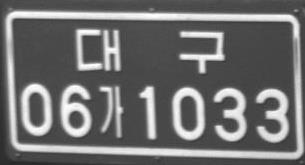0: (170, 85, 206, 141), (20, 82, 52, 135)
1: (134, 84, 166, 139)
3: (255, 87, 290, 143), (213, 86, 247, 142)
6: (60, 83, 93, 138)
가: (98, 85, 124, 137)
대구_D: (74, 28, 225, 73)
